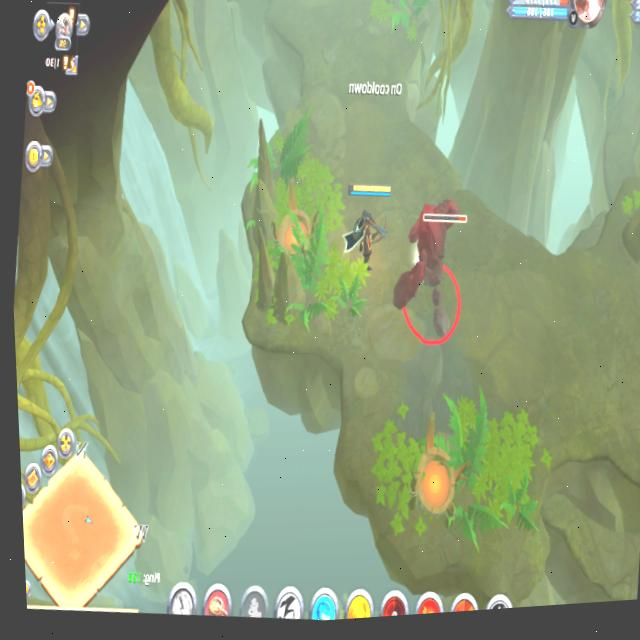ore: (381, 187, 482, 357)
red: (334, 177, 397, 279)
